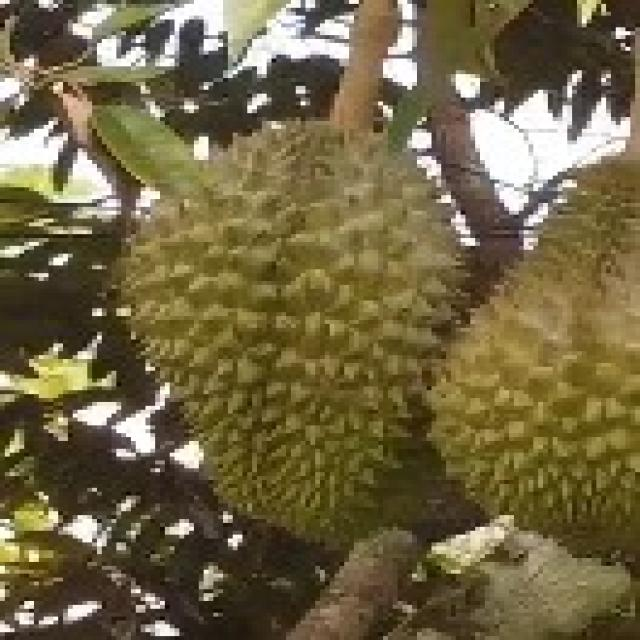immature: (105, 118, 487, 548)
